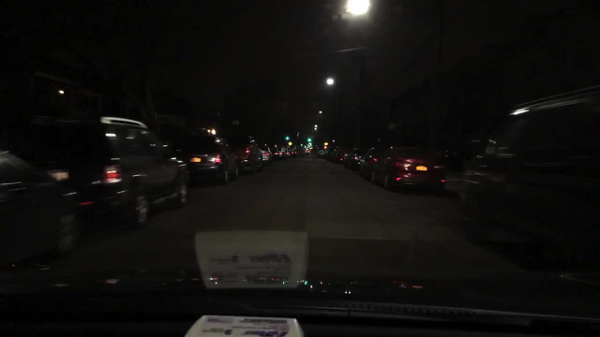car: (459, 88, 599, 238), (13, 117, 190, 225), (0, 149, 84, 258), (173, 125, 240, 183), (374, 146, 445, 190), (224, 136, 263, 171), (361, 147, 387, 176), (343, 147, 366, 169), (258, 146, 273, 164), (269, 145, 281, 159), (328, 147, 341, 159), (335, 147, 346, 161), (321, 147, 332, 157), (277, 147, 286, 157), (285, 148, 290, 157), (289, 148, 295, 155), (304, 148, 310, 155), (317, 149, 323, 156)
traffic light: (306, 135, 313, 144), (285, 134, 291, 142)
traffic sign: (287, 140, 293, 147), (323, 142, 328, 146)
